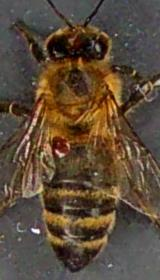varroa_mite: (45, 133, 76, 159)
